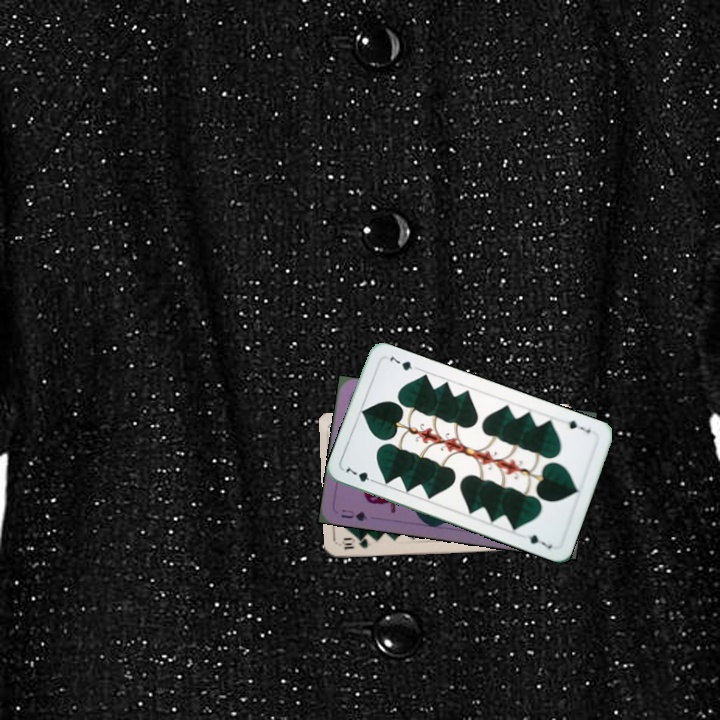G10: (338, 534, 370, 552)
G7: (342, 462, 380, 486), (564, 416, 593, 436)
GU: (337, 505, 369, 524)
